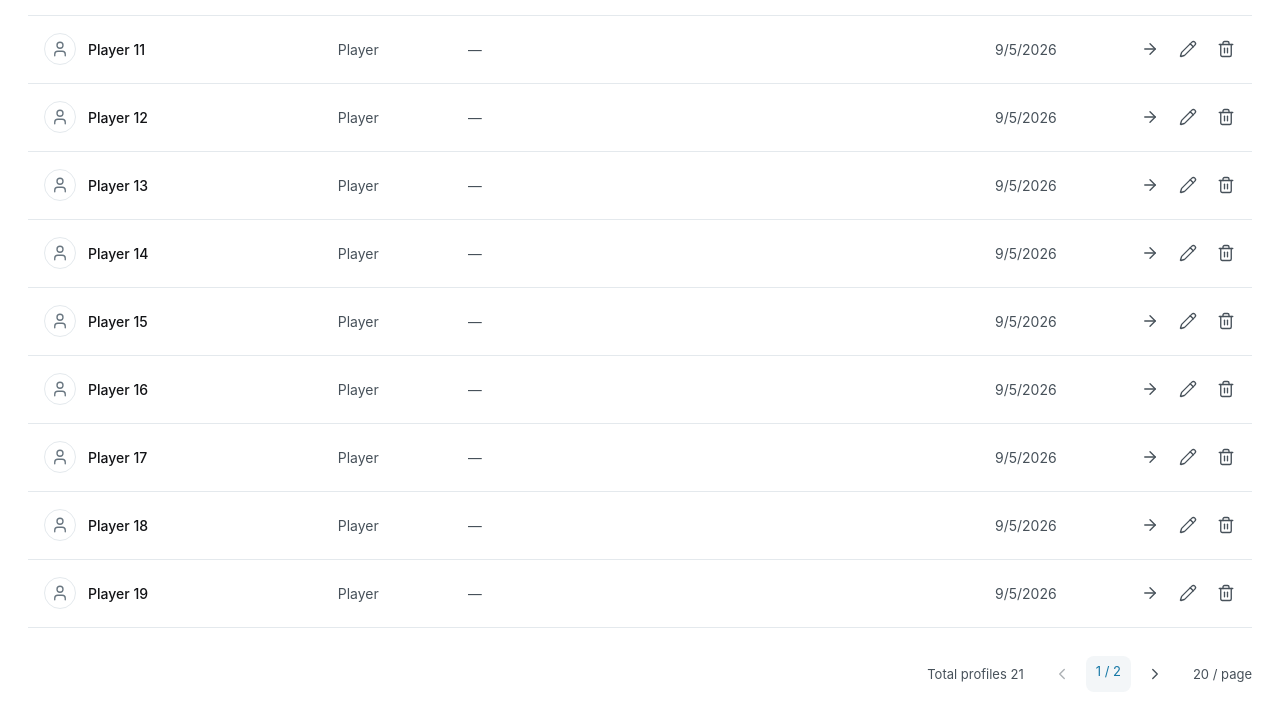
deletion failure preserves the row and deleting the last row on page two returns to page one
The image size is (1280, 720).
(page scrolled)
Click the button named "Next" at (1155, 674), box [1137,656,1173,692]
(page scrolled)
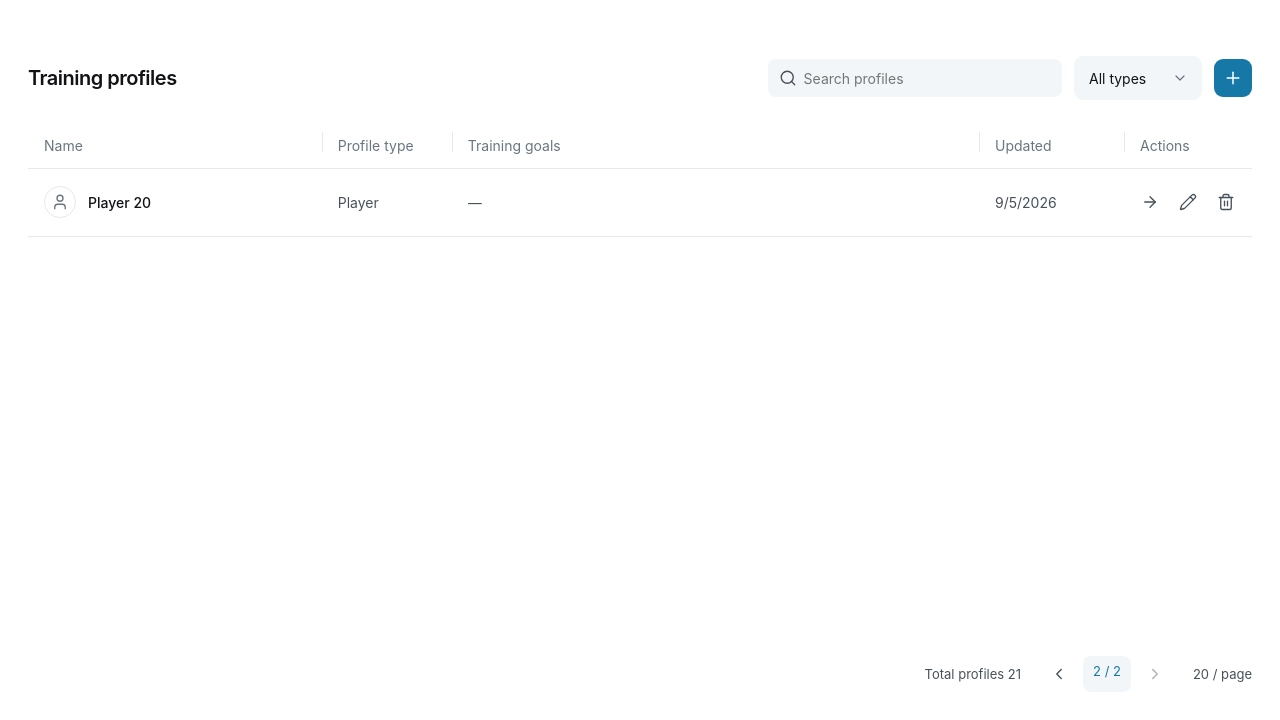
Click the button named "Delete profile · Player 20" at (1226, 202), box [1208,184,1244,220]
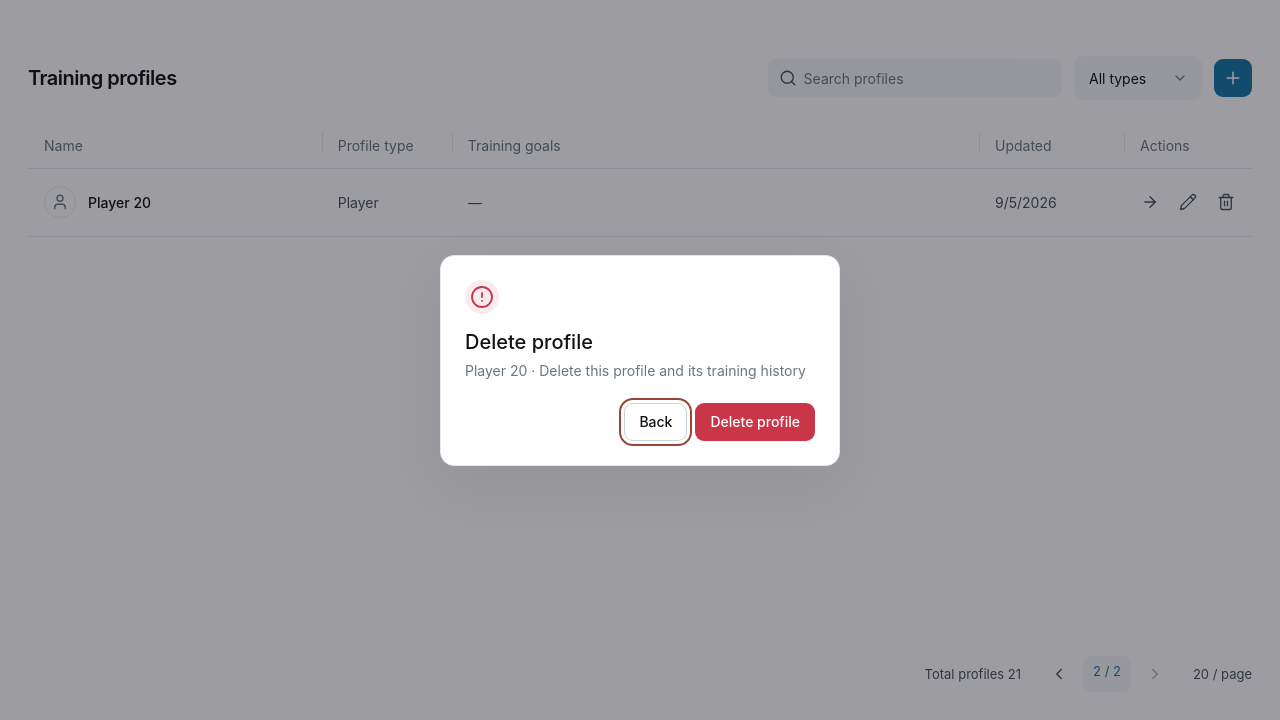
Click the button "Delete profile" at (755, 422), box [695,402,815,440]
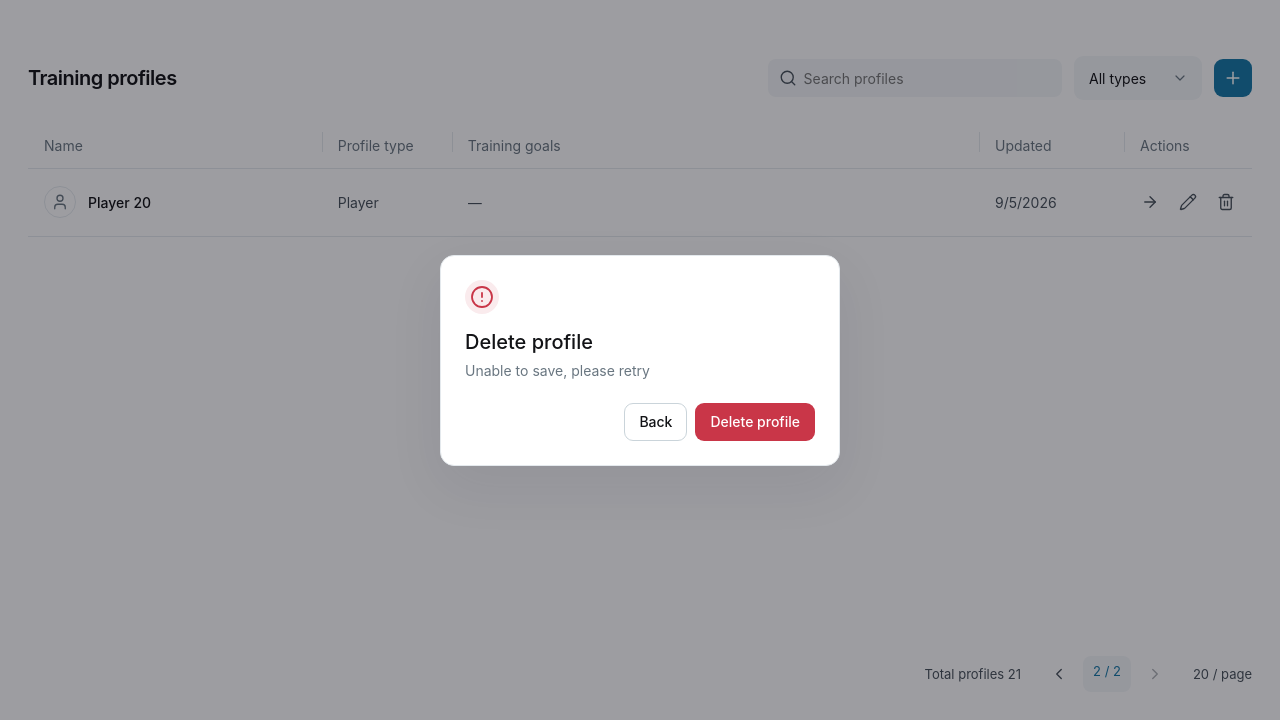
expect the link "Player 20" is shown: met, box [44,186,151,218]
expect the text "Unable to save, please retry" is shown: met, box [465,362,650,378]
Click the button "Delete profile" at (755, 422), box [695,402,815,440]
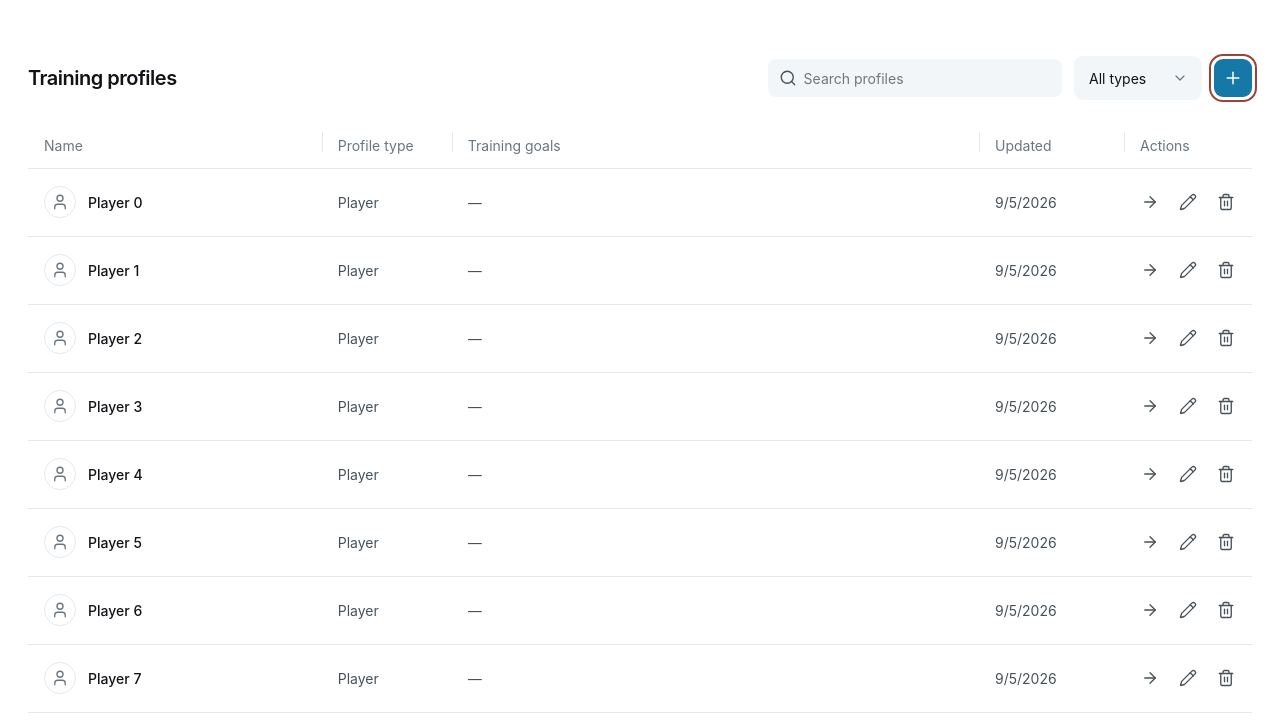
expect the dialog is gone: met
expect the link "Player 0" is shown: met, box [44,186,142,218]
